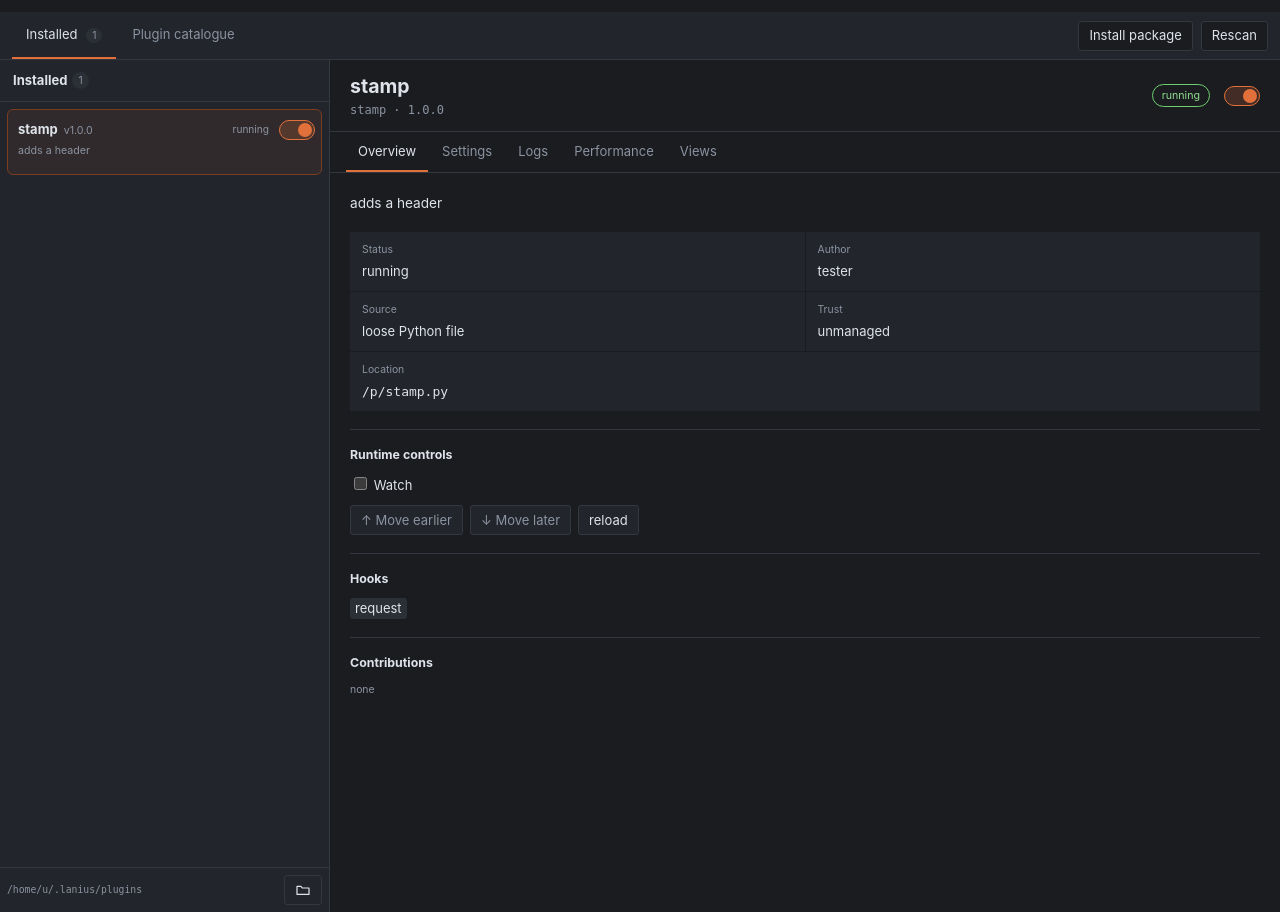
Test case: PluginsTab › can disable a running plugin
Click the switch named "toggle stamp" at x=295, y=130, box [279,120,311,140]
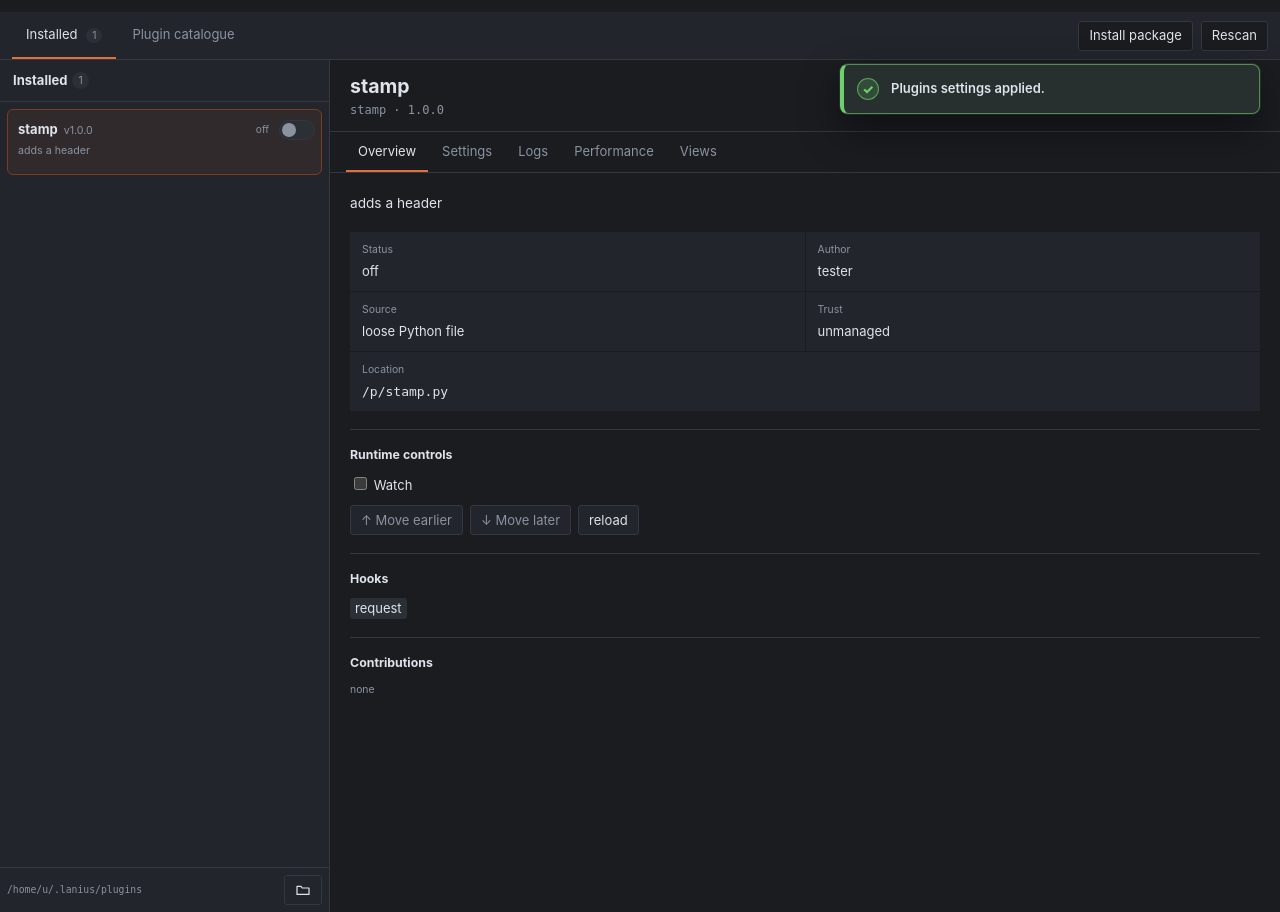
Check: the 2nd text "off" is shown, box [256,122,269,136]
